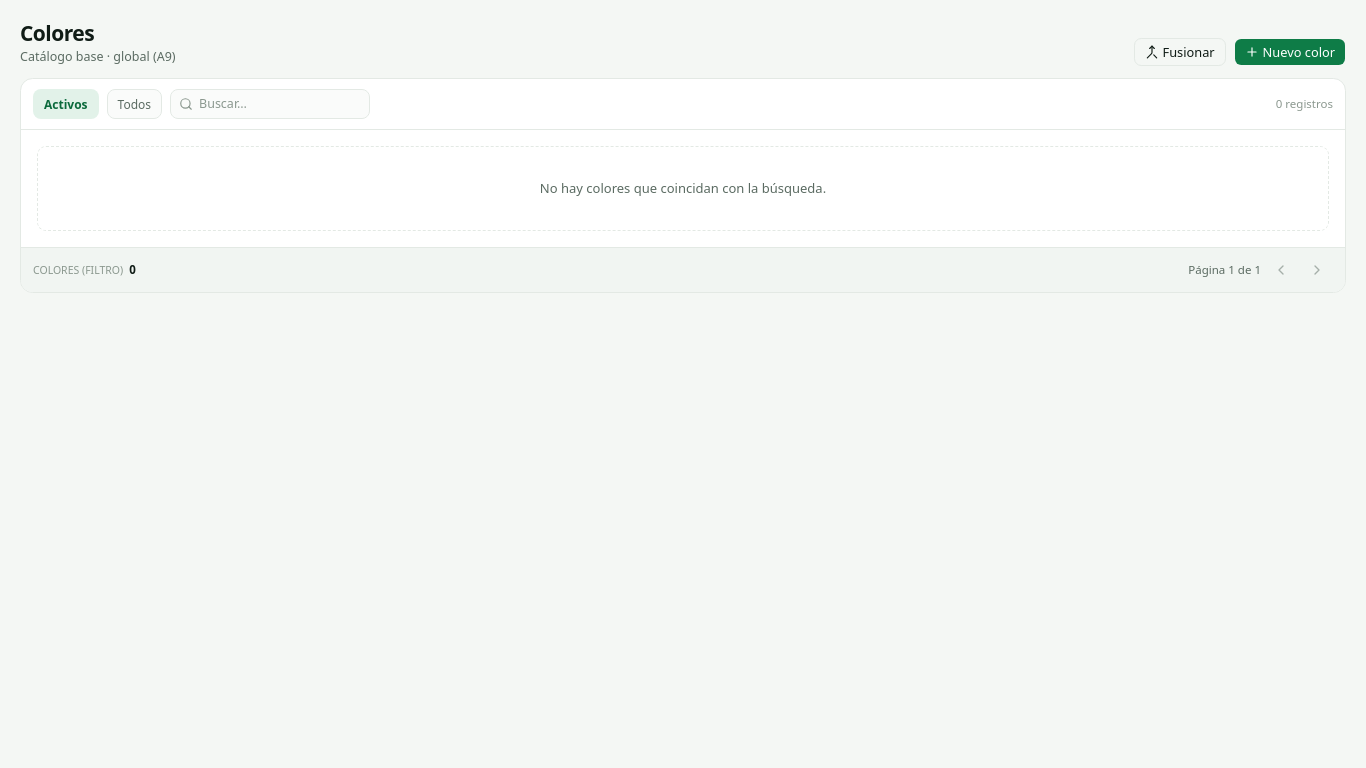
<ColoresPagina> › alta rápida encadenada: tras guardar, el diálogo sigue abierto y el campo se limpia
The image size is (1366, 768).
Click the button with test id "nuevo-color".
click(1290, 52)  # box [1234,38,1346,66]
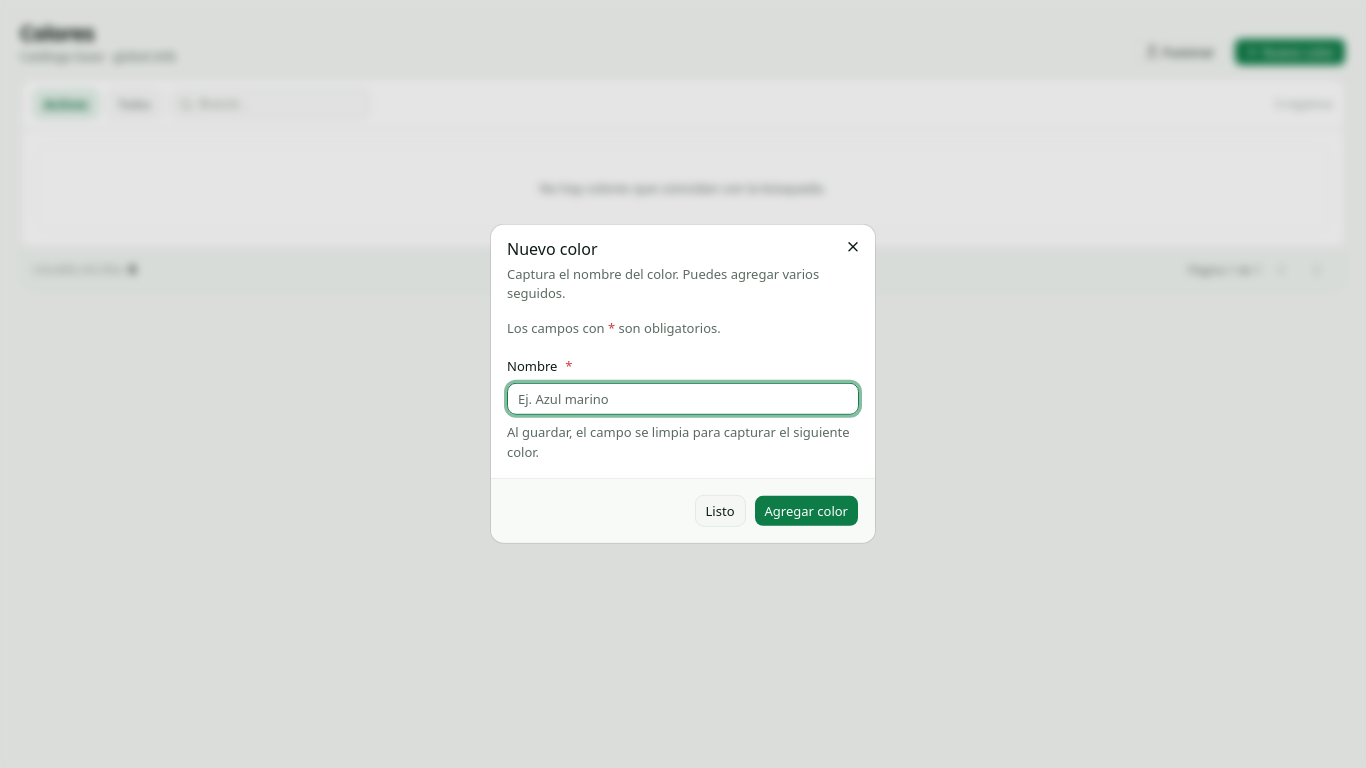
Type "Rojo" into the field labelled "Nombre *".
click(683, 399); type("Rojo")  # box [507,383,859,415]
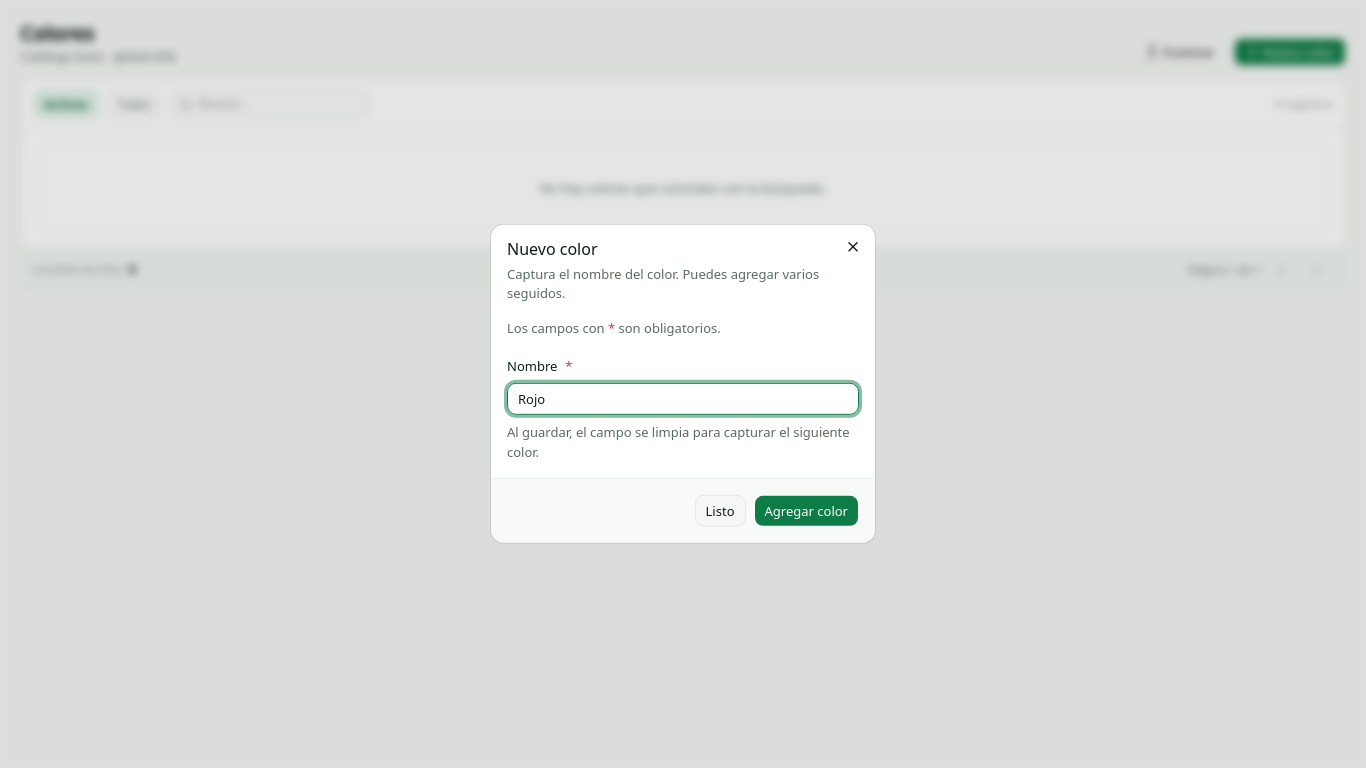
Click the button with test id "guardar-color".
click(806, 511)  # box [754,495,859,527]
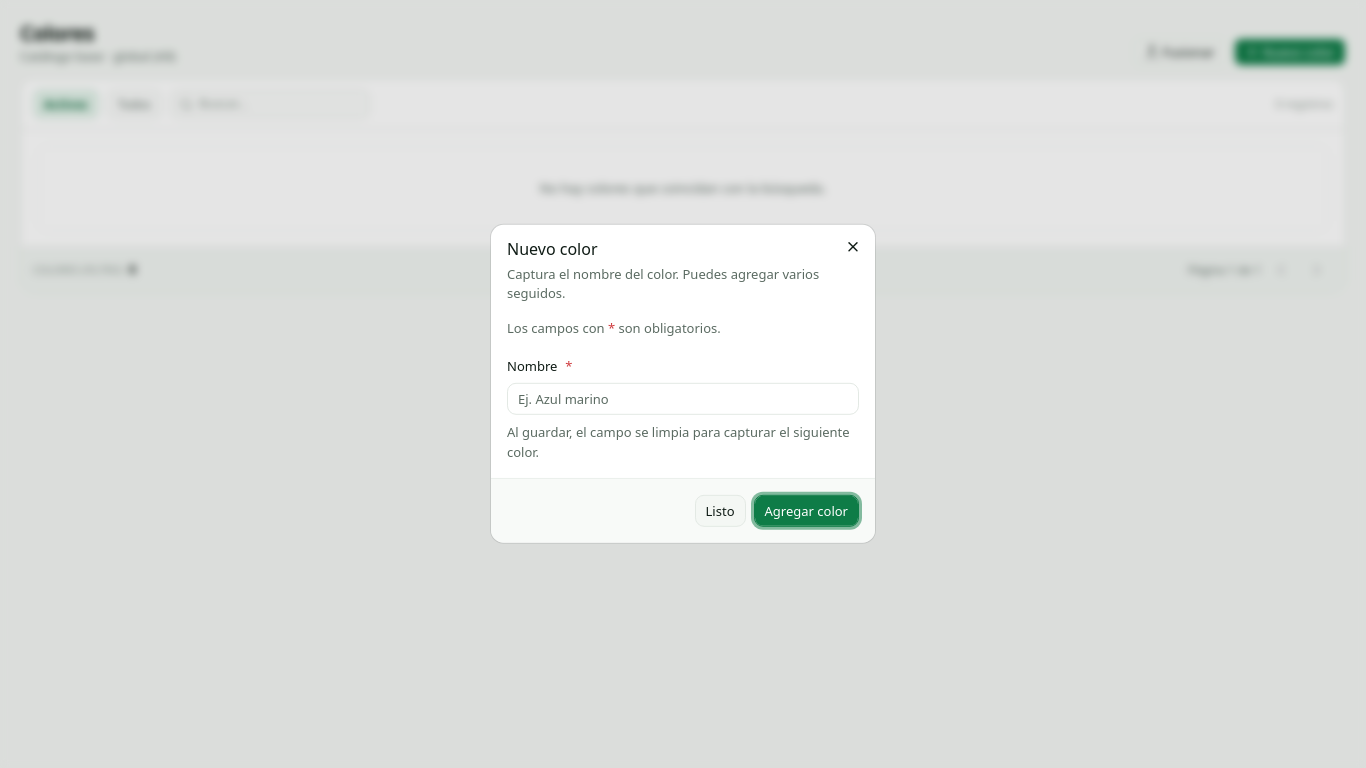
Expected: the dialog is shown, [491,225,875,543]
Expected: the field labelled "Nombre *" is empty
// Se puede capturar otro color de corrido.
Type "Azul" into the field labelled "Nombre *".
click(683, 399); type("Azul")  # box [507,383,859,415]
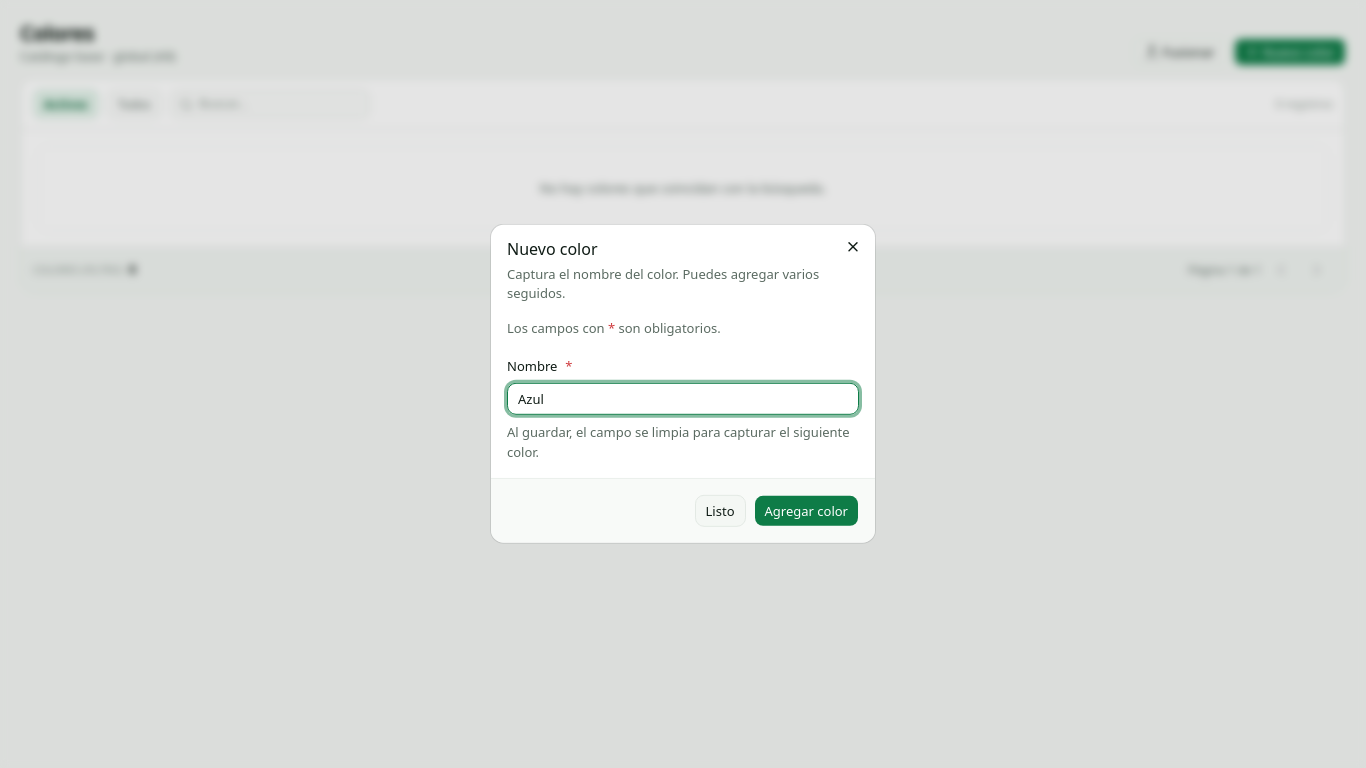
Click the button with test id "guardar-color".
click(806, 511)  # box [754,495,859,527]
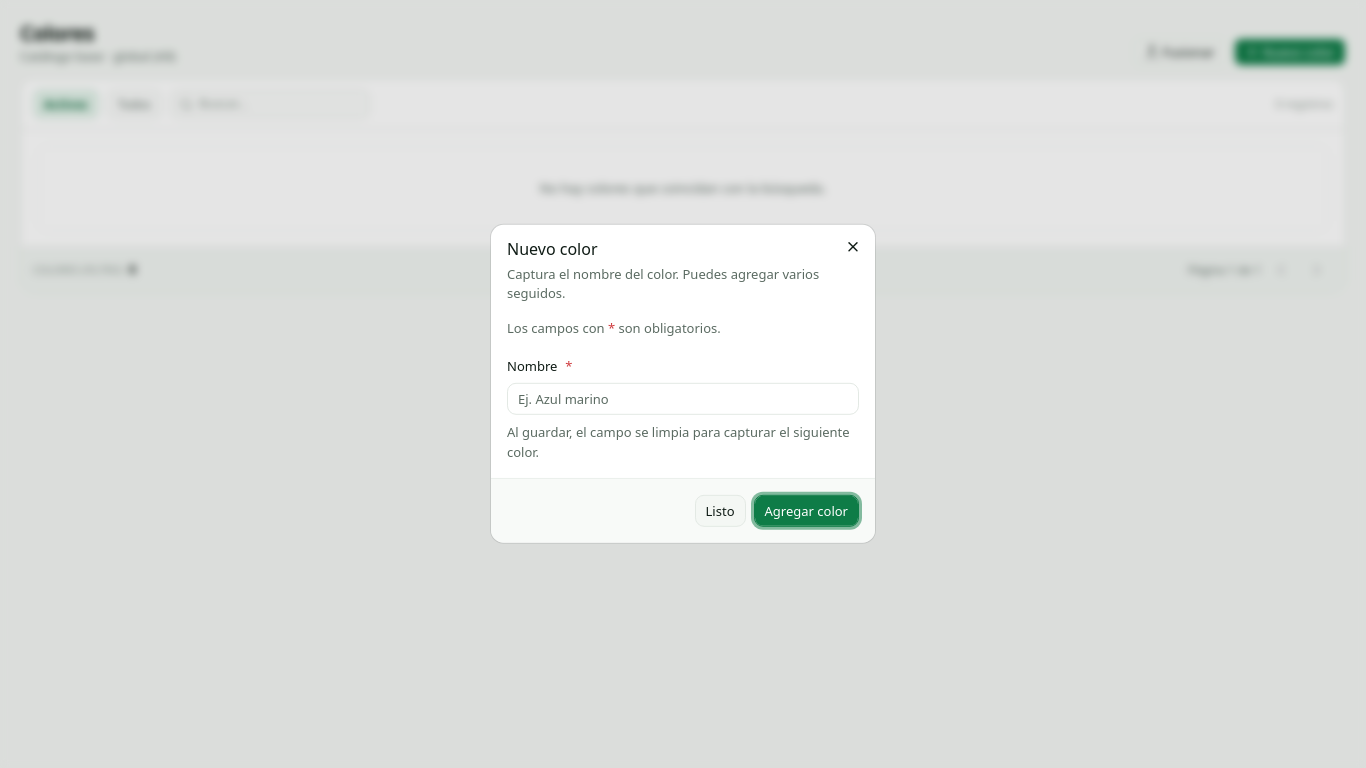
// "Listo" cierra el dialogo.
Click the button with test id "listo-color".
click(720, 511)  # box [695,495,746,527]
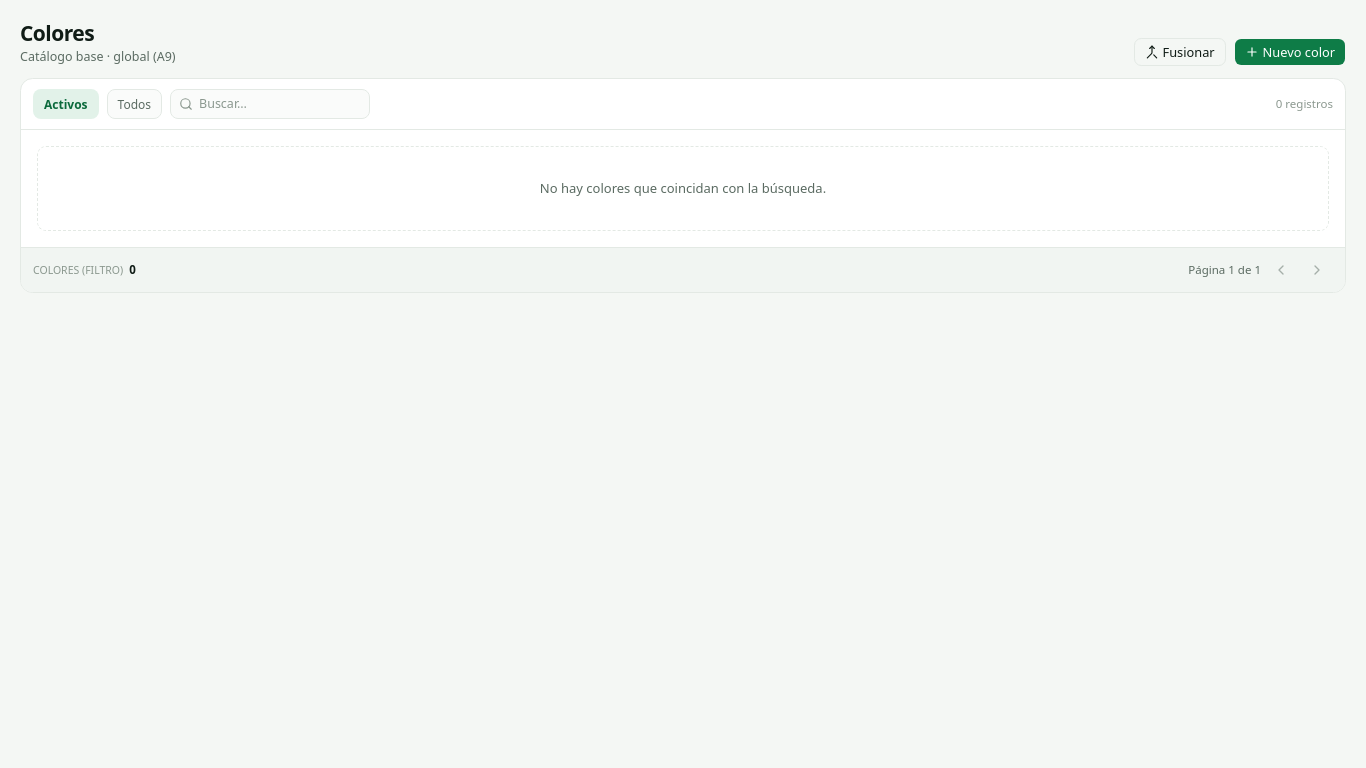
Expected: the dialog is gone
